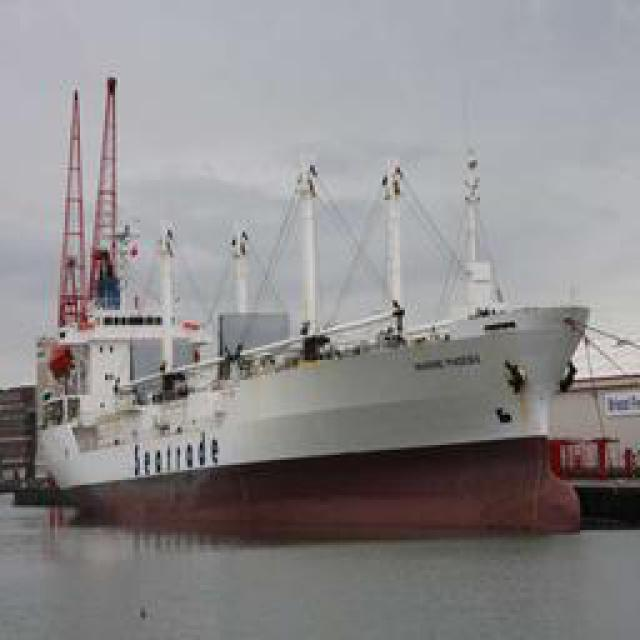Ship: (24, 102, 599, 500)
